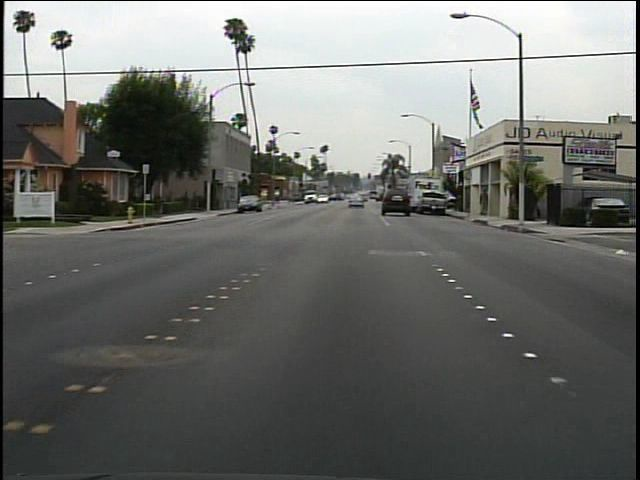person: (476, 187, 495, 219)
